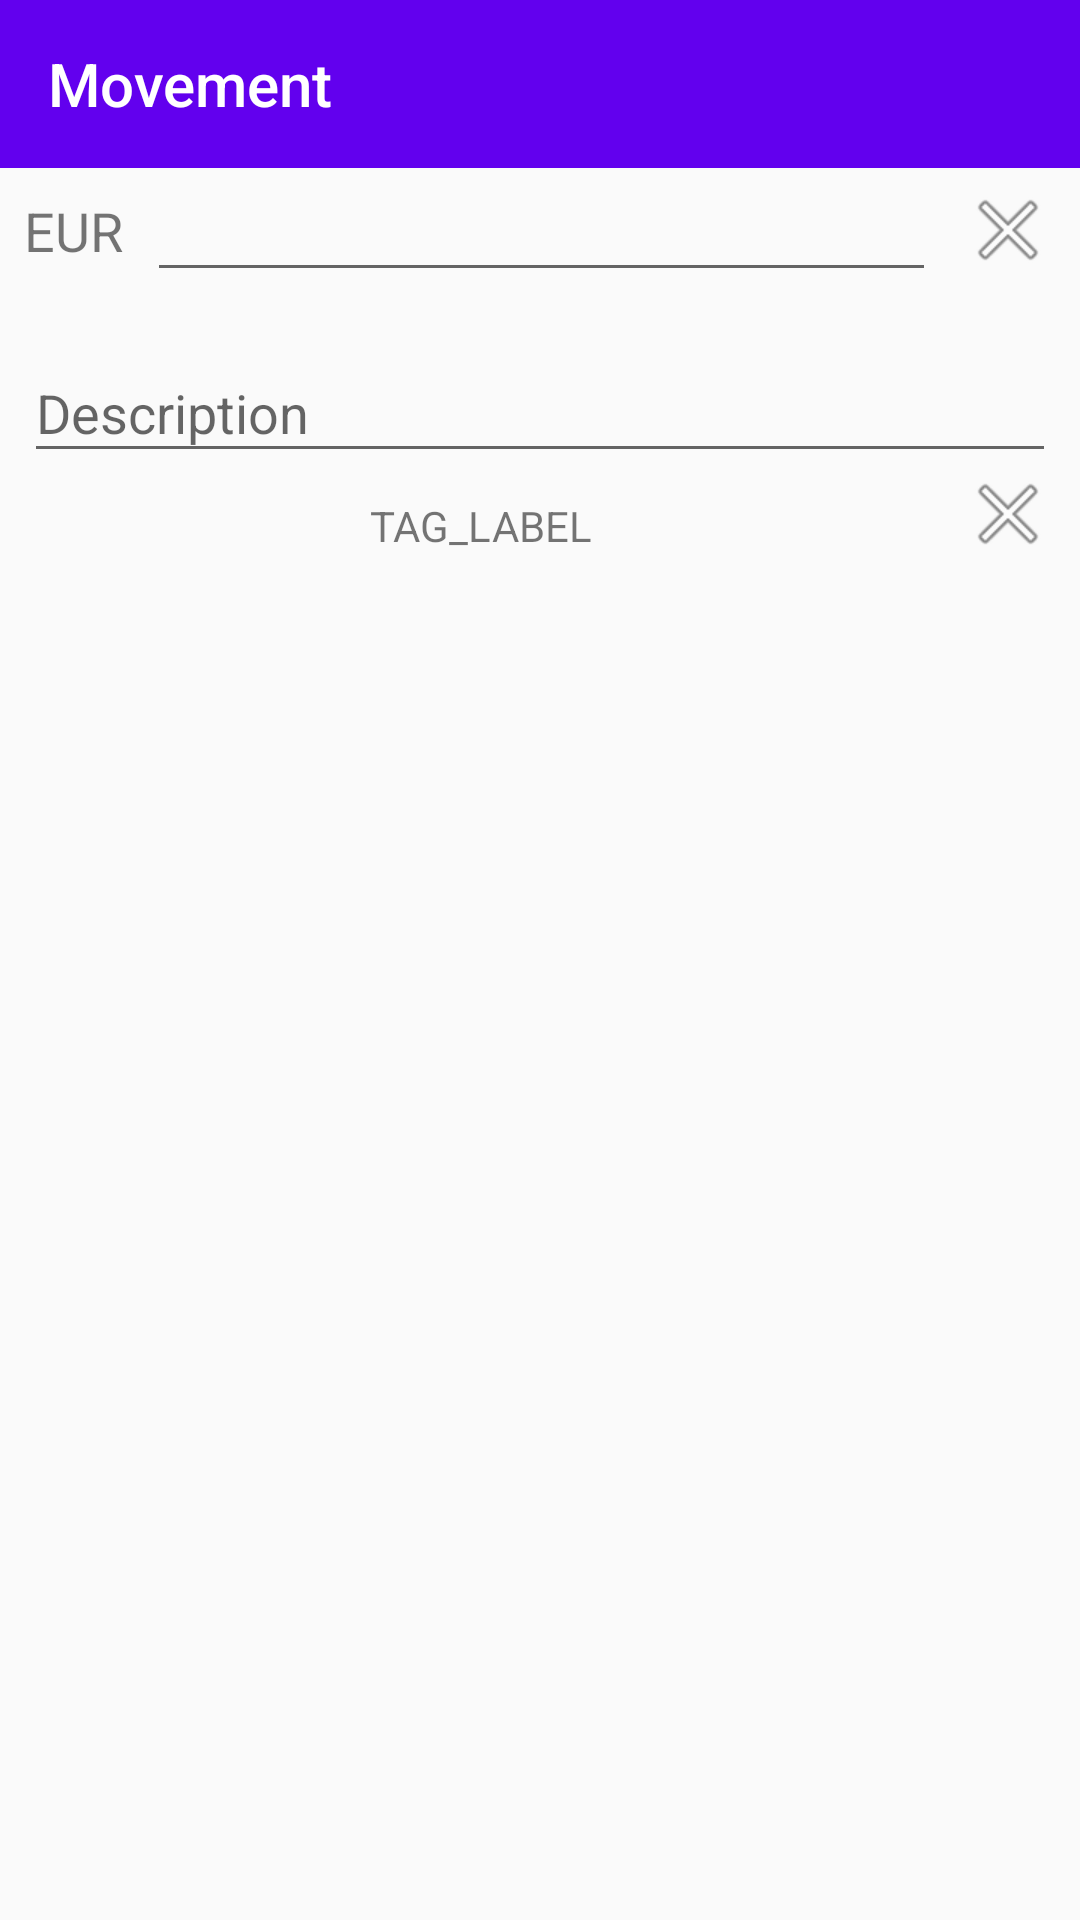

Screen size 1080w x 1920h. Icon name, then its center in pixels as (x,y):
close clear cancel: (1008,230), (1008,514)
